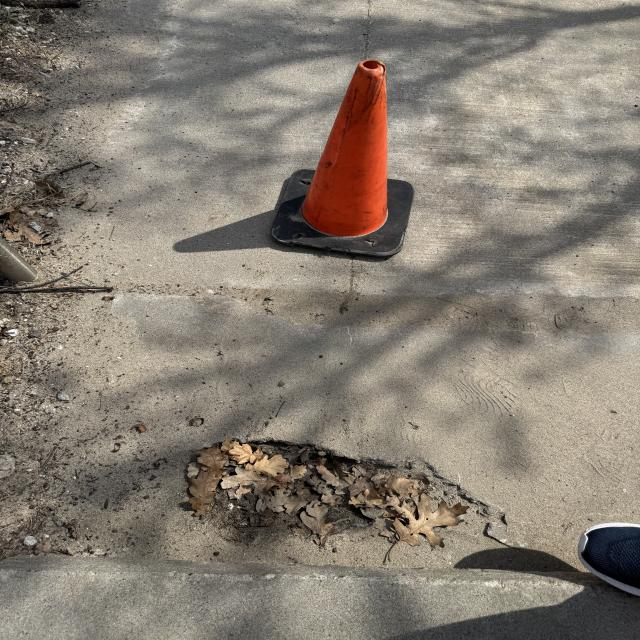Traffic Cone: (268, 58, 421, 260)
